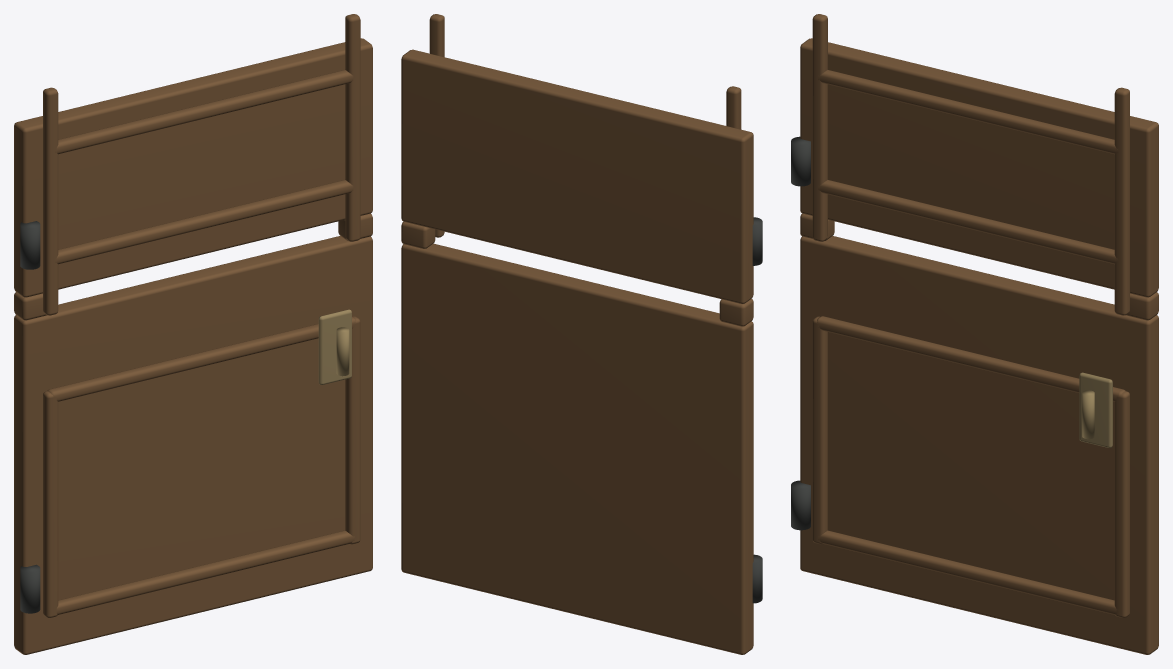
Rendered from wardrobe_leaf.glb.
3 renders of one model, left to right at view 1: azimuth 30°, elevation 25°; view 2: azimuth 150°, elevation 25°; view 3: azimuth 330°, elevation 25°, orthographic.
Visible parts, largest first — view 1: wardrobe_leaf; view 2: wardrobe_leaf; view 3: wardrobe_leaf.
Boxes of the visible parts, left/top/right/bottom form: wardrobe_leaf: left=14, top=14, right=372, bottom=654; wardrobe_leaf: left=401, top=14, right=762, bottom=654; wardrobe_leaf: left=791, top=14, right=1158, bottom=654.
Bounding box in the file's own units: 1.62 × 2.46 × 0.23.
